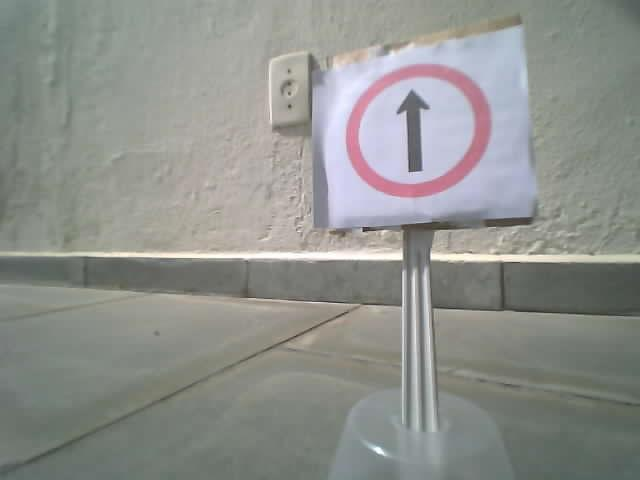R-26_frente: (345, 63, 489, 198)
